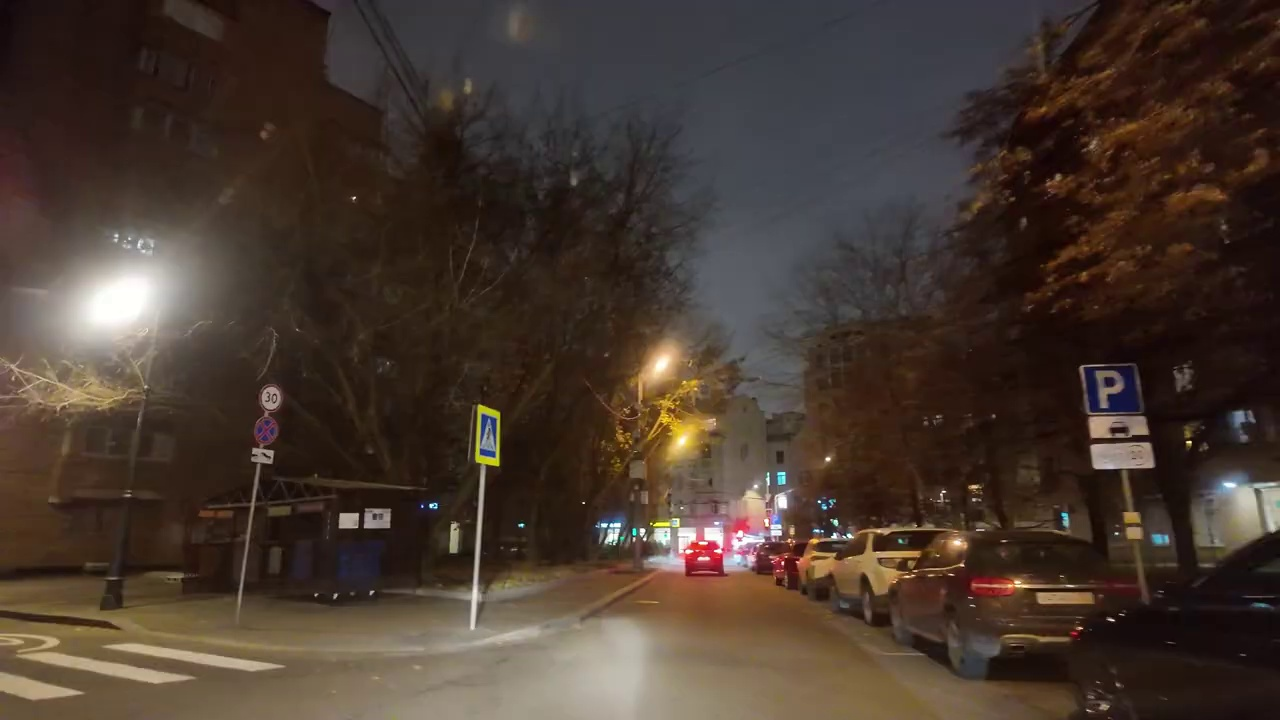acesa: (79, 269, 158, 335), (638, 343, 681, 391), (662, 421, 698, 461)
